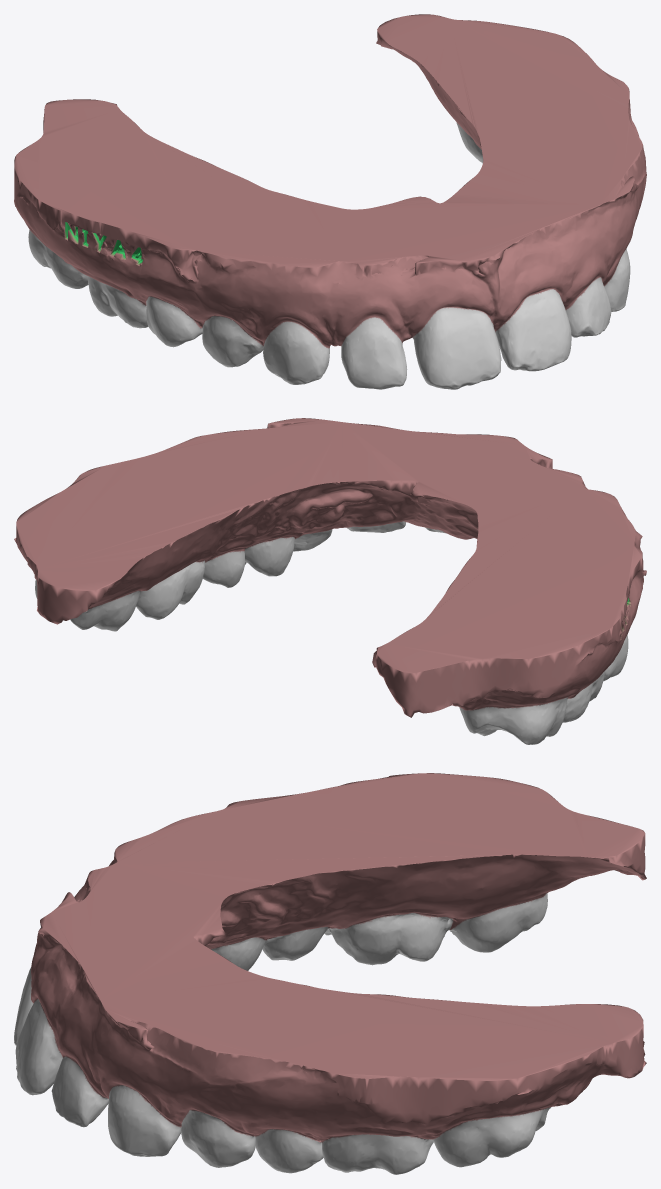
File: Niya Priority Upper jaw - 04 - Model.glb
3 views of the same model, one above another, from view 1: azimuth 30°, elevation 25°; view 2: azimuth 150°, elevation 25°; view 3: azimuth 270°, elevation 25° (orthographic). The views are drawn at different scales.
Visible parts, largest first — view 1: Niya Priority Upper jaw - 04 - Model; view 2: Niya Priority Upper jaw - 04 - Model; view 3: Niya Priority Upper jaw - 04 - Model.
Boxes of the visible parts, x1,y1,x2,y2 form: Niya Priority Upper jaw - 04 - Model: (14, 14, 646, 389); Niya Priority Upper jaw - 04 - Model: (14, 418, 646, 744); Niya Priority Upper jaw - 04 - Model: (14, 773, 646, 1174).
Bounding box in the file's own units: 66.36 × 13.7 × 57.63.
